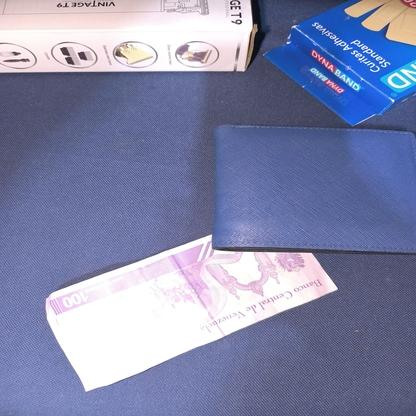one_hundred-back-vef: (44, 232, 338, 392)
